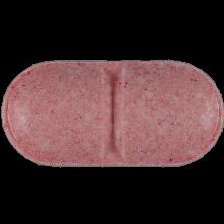61919-330: (0, 0, 224, 224)
